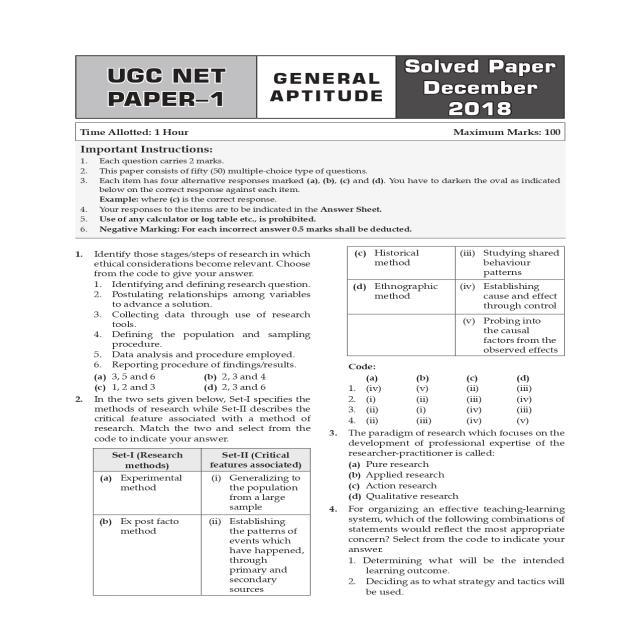Answer_Block: (326, 552, 574, 596), (326, 461, 574, 504), (74, 372, 327, 394)
Instruction: (74, 396, 327, 594), (75, 144, 574, 238), (326, 240, 574, 426)
Question_Answer_Block: (74, 396, 327, 594), (326, 240, 574, 426), (74, 241, 327, 395), (326, 506, 574, 596), (326, 431, 574, 504)
Question_Block: (74, 241, 327, 371), (326, 506, 574, 555), (326, 431, 574, 458)
Question_Paper_Area: (75, 143, 574, 598)
